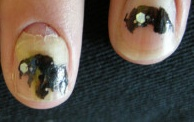SJS-TEN: (12, 21, 74, 103), (116, 0, 186, 56)
